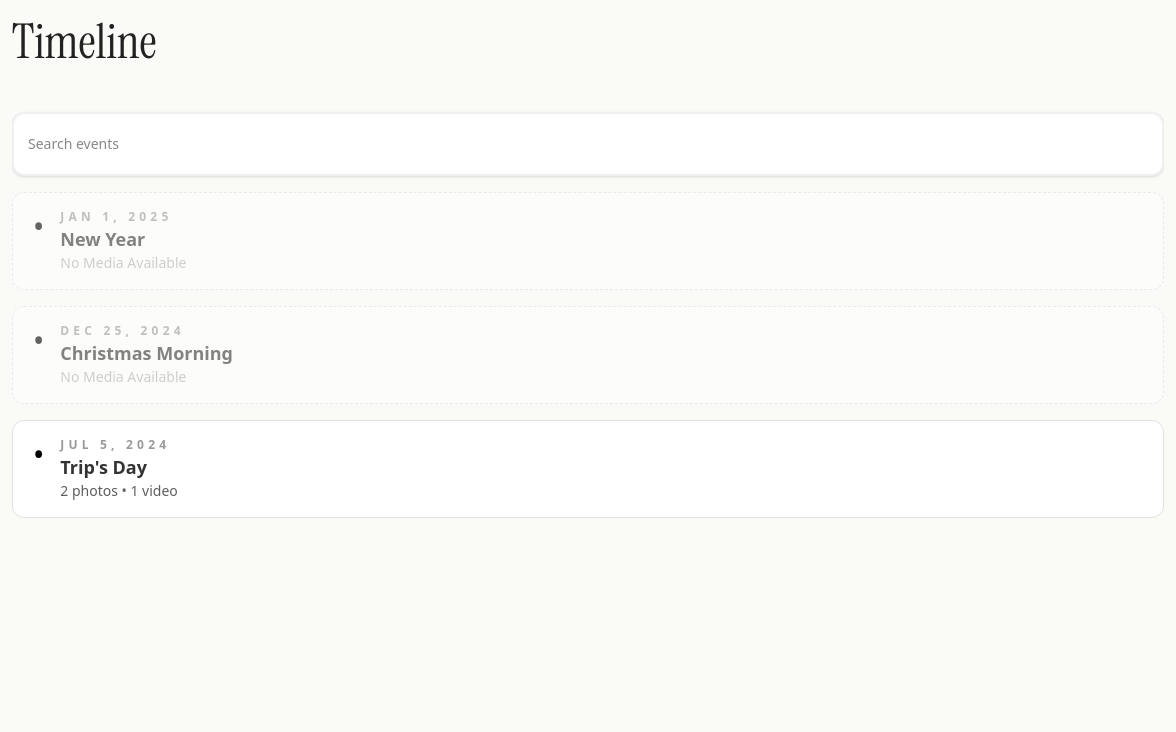
Scenario: TimelinePage › search bar › shows no events when search matches nothing
The image size is (1176, 732).
Type "zzznomatch" into the field labelled "Search events" at (588, 144), box [12, 112, 1164, 176]
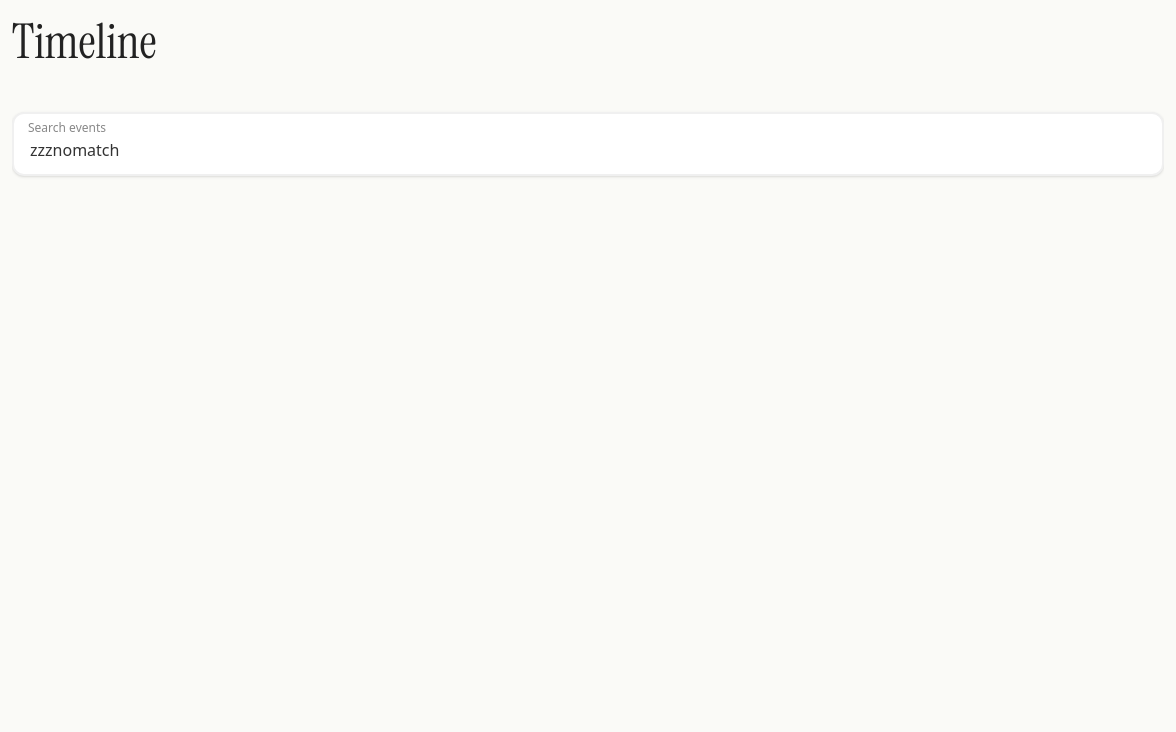
Check: the button "Trip's Day" is gone
Check: the button "Christmas Morning" is gone
Check: the button "New Year" is gone
